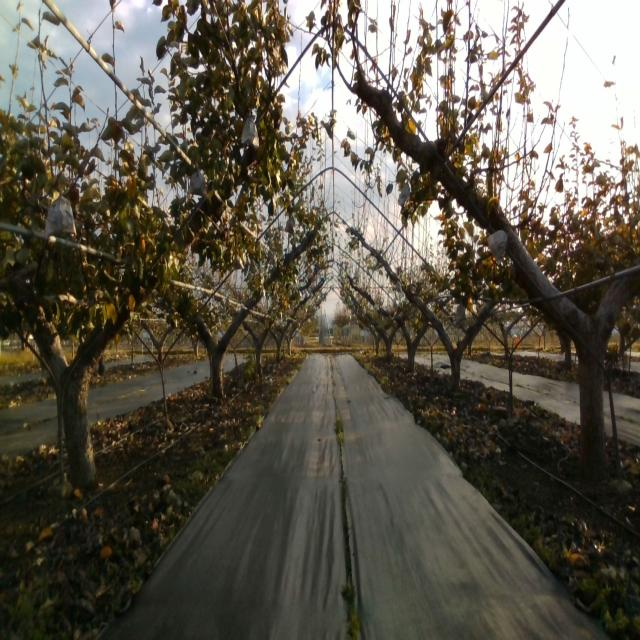pearbags: (44, 189, 76, 238), (486, 229, 508, 266), (186, 167, 208, 198), (241, 115, 259, 152), (398, 176, 410, 208), (285, 215, 300, 238), (454, 301, 467, 325)
